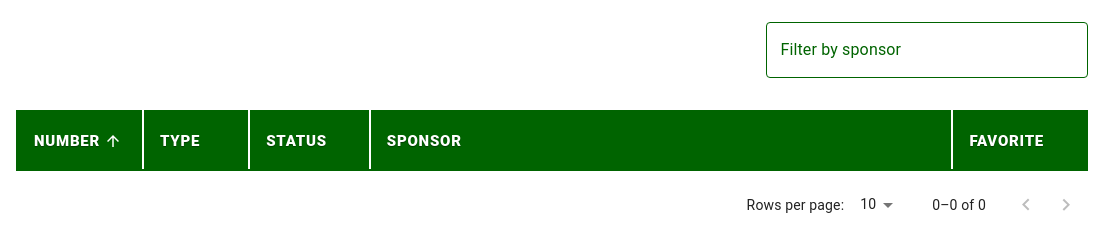
Test case: BillsContainer › allows typing in the input and clearing it
In the field labelled "Filter by sponsor": (927, 50) [766,22,1088,78], type "Test sponsor"
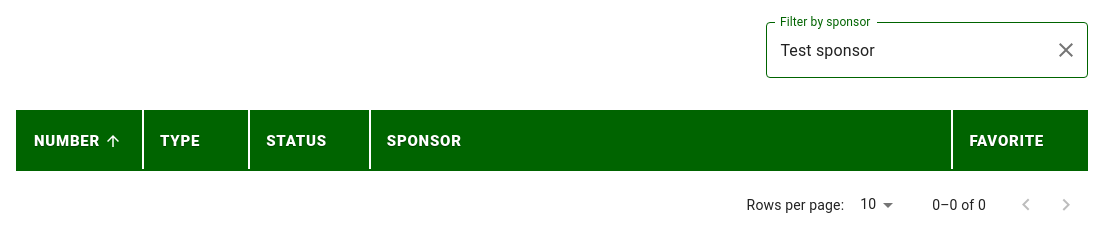
Click the button named "clear input": (1066, 50) [1046,30,1086,70]
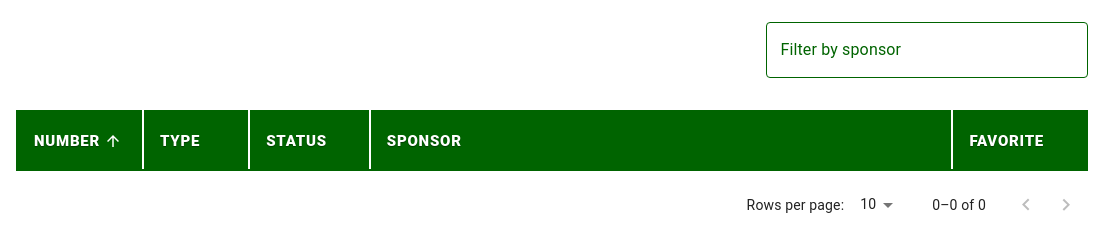
Now the field labelled "Filter by sponsor" is empty, box [766,22,1088,78]
